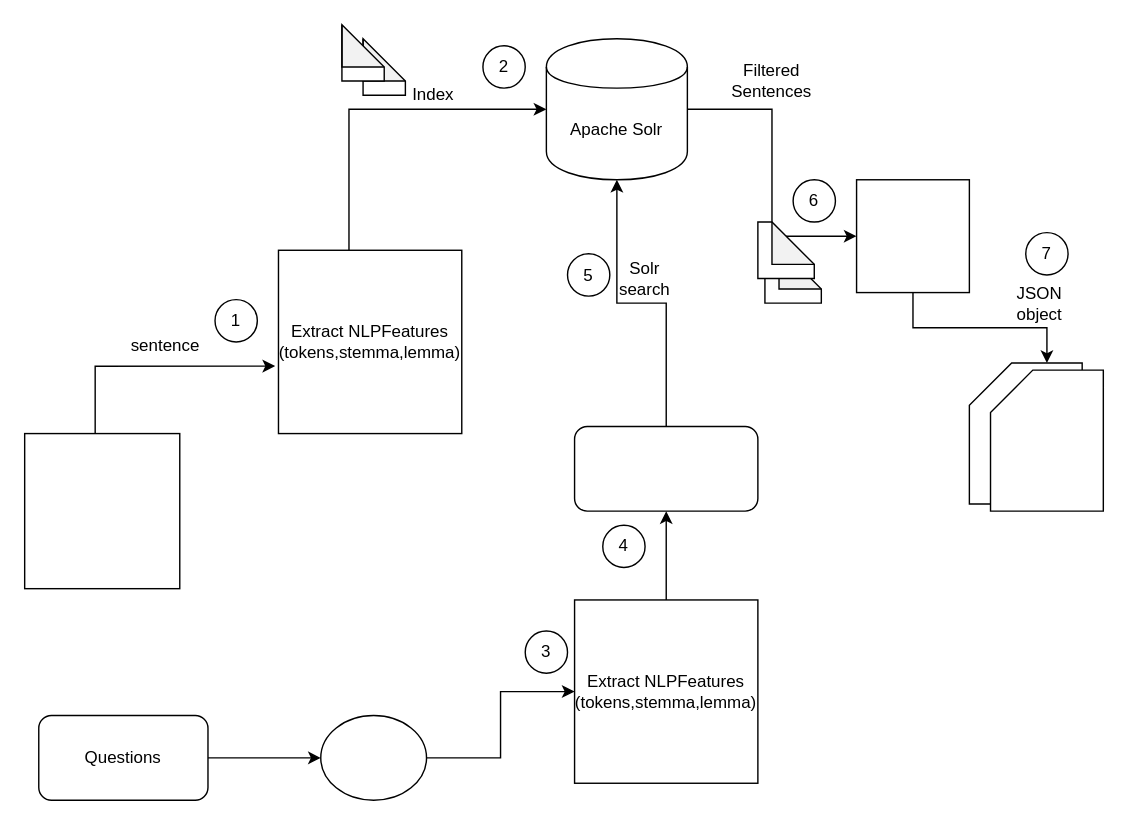
This 1128x825 diagram has some shape labels left out. The shapes that lost their labels are listed below. From the top down, each one's centre as x and y in pixels, then its label:
At (x=912, y=235): "Dependency parsing".
At (x=1046, y=440): "Results".
At (x=665, y=468): "Create Solr Query".
At (x=101, y=510): "Corpus".
At (x=373, y=757): "Identify que type".
